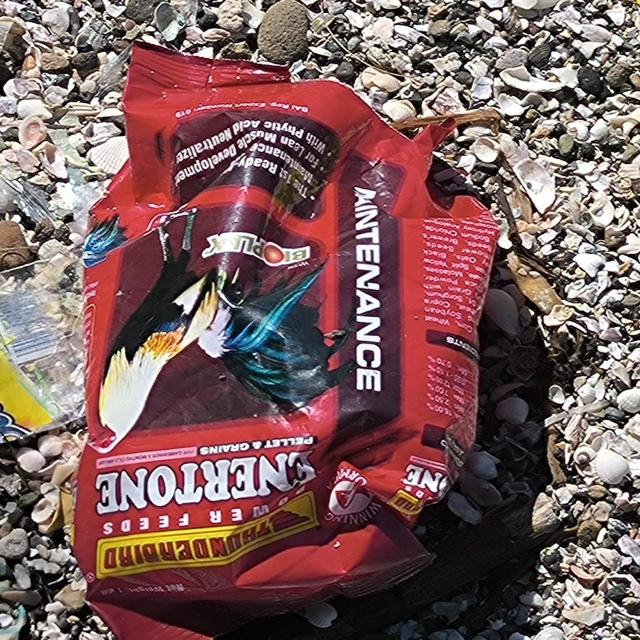plastic_waste: (77, 40, 502, 640)
